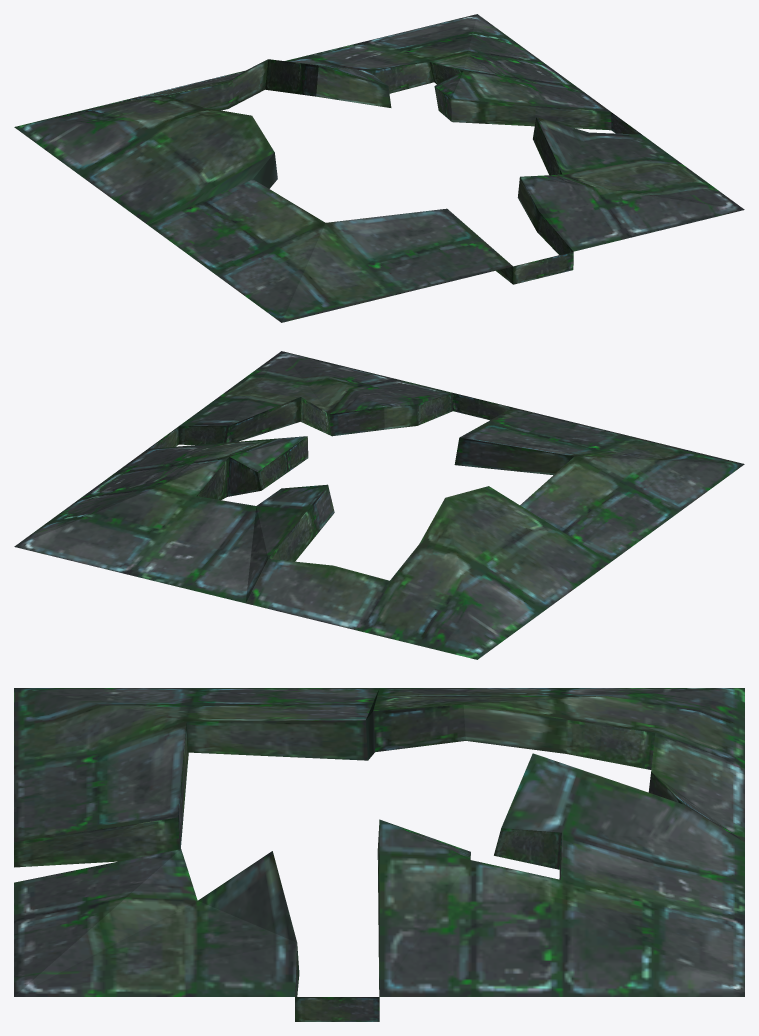
File: stemple_floor_buckled_01.fbx
The picture shows the model from 3 angles, top to bottom: view 1: azimuth 30°, elevation 25°; view 2: azimuth 150°, elevation 25°; view 3: azimuth 270°, elevation 25°; orthographic projection. The views are drawn at different scales.
Parts seen in each view (by area): view 1: obj1.083; view 2: obj1.083; view 3: obj1.083.
Part boxes in pixels (x1,y1,x2,y2): obj1.083: (14, 14, 744, 322); obj1.083: (14, 351, 744, 659); obj1.083: (14, 688, 744, 1021).
Size of the model in its own units: 4 by 0.6709 by 4.
